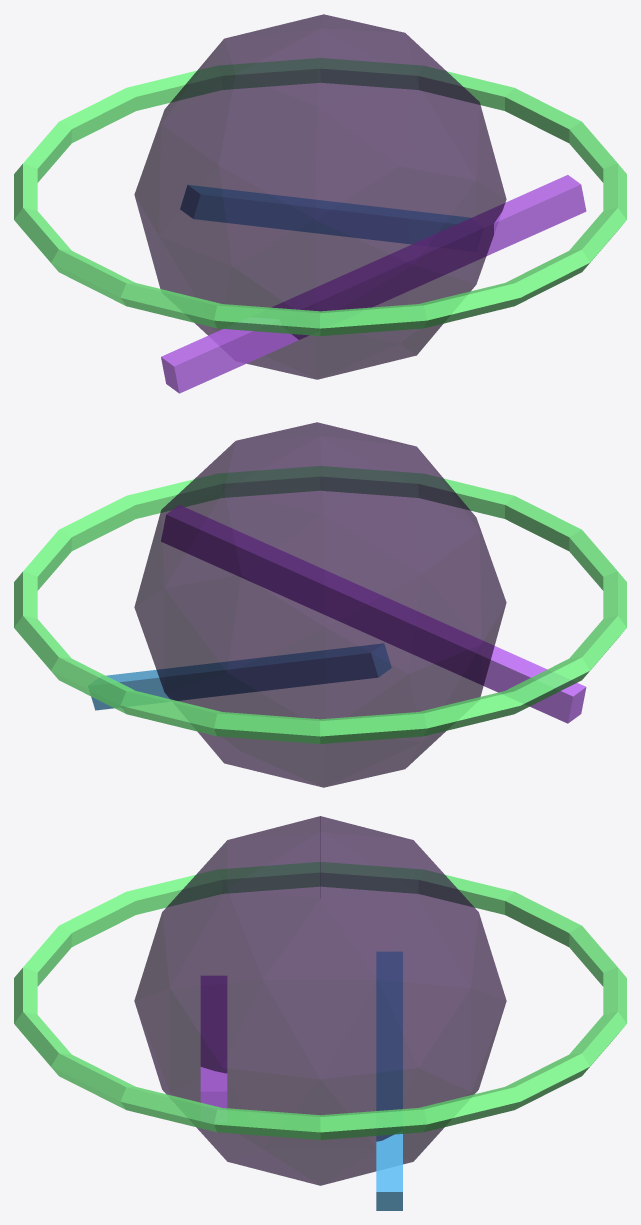
File: data_corruption_node.glb
3 renders of one model, top to bottom at view 1: azimuth 30°, elevation 25°; view 2: azimuth 150°, elevation 25°; view 3: azimuth 270°, elevation 25°, orthographic.
Parts seen in each view (by area): view 1: void_core, data_ring, glitch_bar_a, glitch_bar_b; view 2: void_core, data_ring, glitch_bar_a, glitch_bar_b; view 3: void_core, data_ring, glitch_bar_b, glitch_bar_a.
Boxes of the visible parts, <box> form: void_core: <box>134,14,506,379</box>; data_ring: <box>14,58,626,335</box>; glitch_bar_a: <box>161,175,586,393</box>; glitch_bar_b: <box>180,185,469,243</box>; void_core: <box>134,422,506,787</box>; data_ring: <box>14,466,626,743</box>; glitch_bar_a: <box>161,505,586,723</box>; glitch_bar_b: <box>91,643,391,710</box>; void_core: <box>134,816,506,1185</box>; data_ring: <box>14,862,626,1139</box>; glitch_bar_b: <box>376,952,402,1210</box>; glitch_bar_a: <box>200,976,227,1108</box>.
Size of the model in its own units: 1.17 by 0.7 by 1.15.
